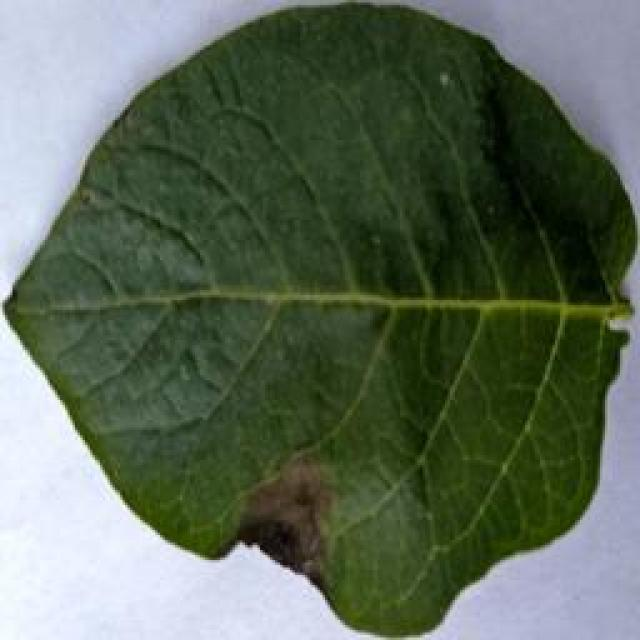Potato_Late_Blight: (2, 9, 629, 635)
